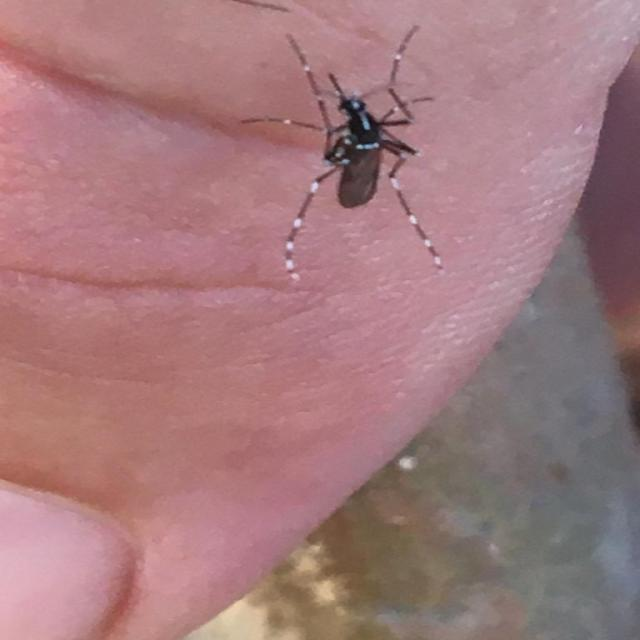albopictus: (225, 29, 478, 289)
